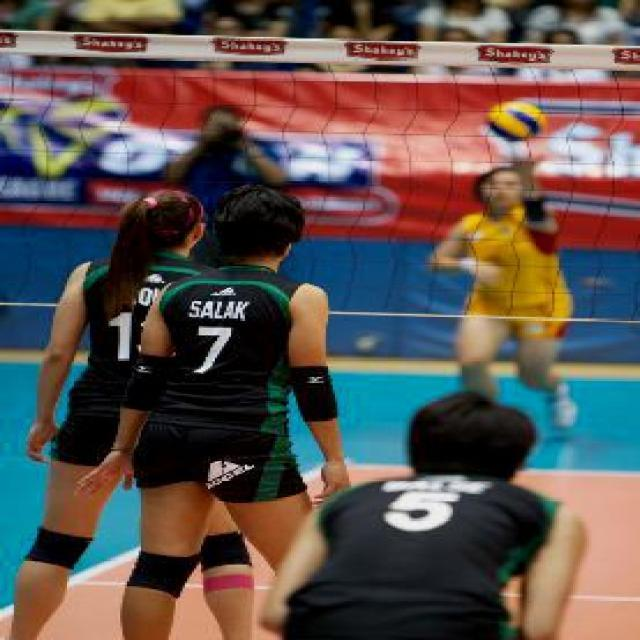volleyball: (486, 100, 548, 144)
